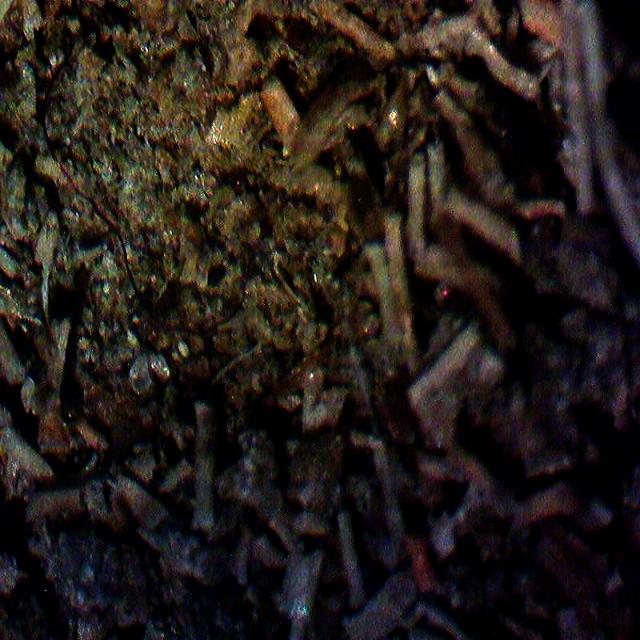microplastic: (42, 60, 251, 347)
